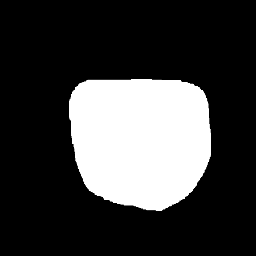mass: (67, 69, 209, 203)
